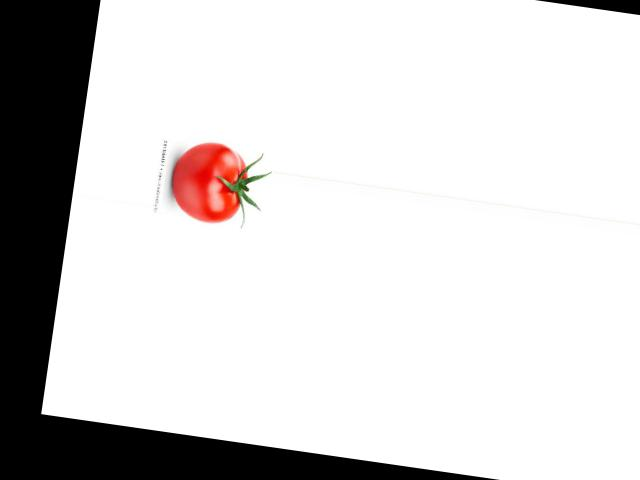tomato: (168, 137, 251, 226)
